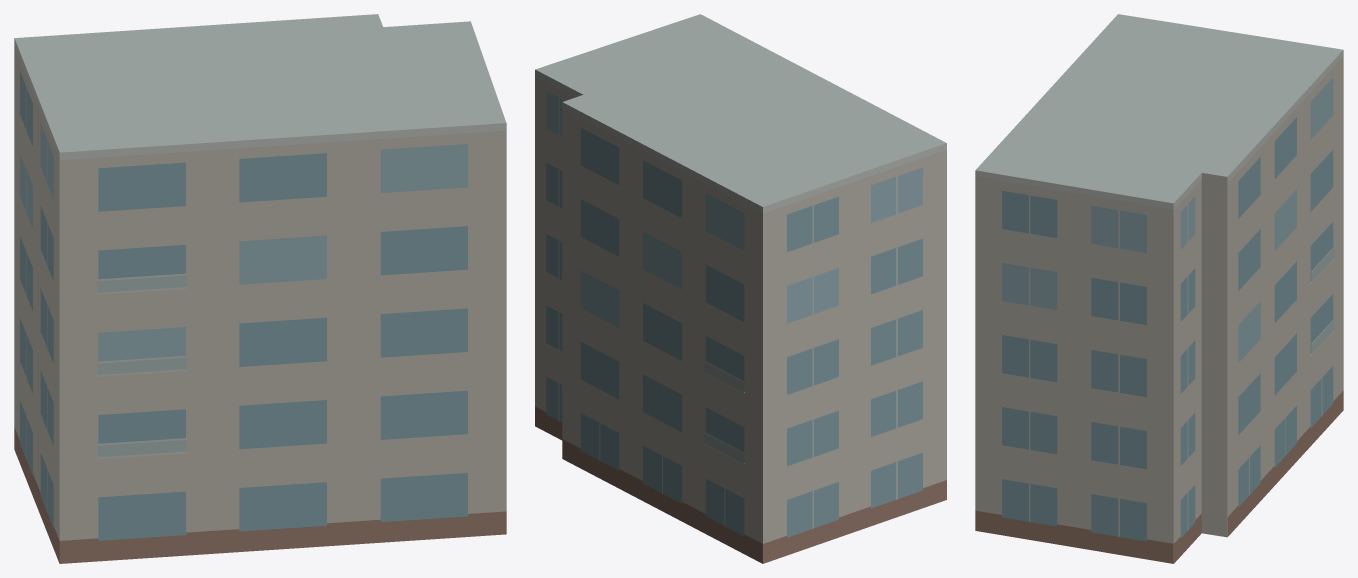
The model's file is survey-upis-32812716.glb.
The picture shows the model from 3 angles, left to right: view 1: azimuth 30°, elevation 25°; view 2: azimuth 150°, elevation 25°; view 3: azimuth 270°, elevation 25°; orthographic projection. The views are drawn at different scales.
Visible parts, largest first — view 1: survey-upis-32812716.tmp; view 2: survey-upis-32812716.tmp; view 3: survey-upis-32812716.tmp.
Boxes of the visible parts, x1,y1,x2,y2 form: survey-upis-32812716.tmp: [14, 14, 506, 563]; survey-upis-32812716.tmp: [535, 14, 946, 563]; survey-upis-32812716.tmp: [975, 14, 1343, 563].
Bounding box in the file's own units: 15 × 13.3 × 12.32.
